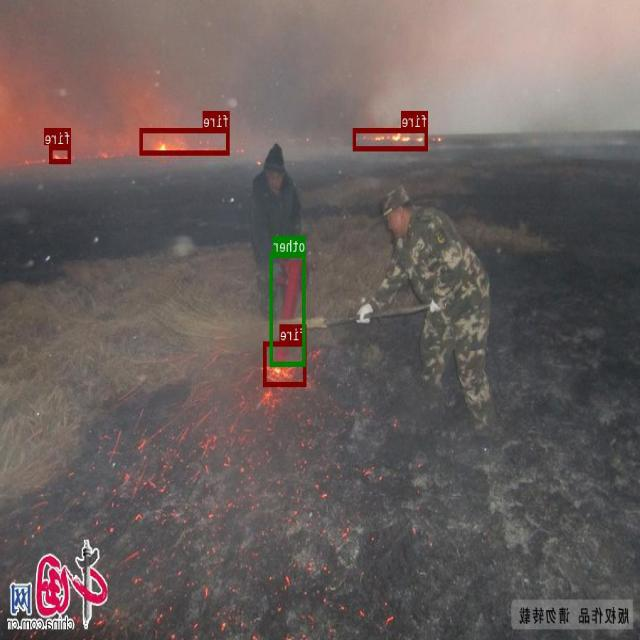fire: (141, 128, 230, 154), (264, 341, 307, 386), (354, 127, 429, 150), (50, 144, 71, 162)
other: (271, 252, 306, 365)
